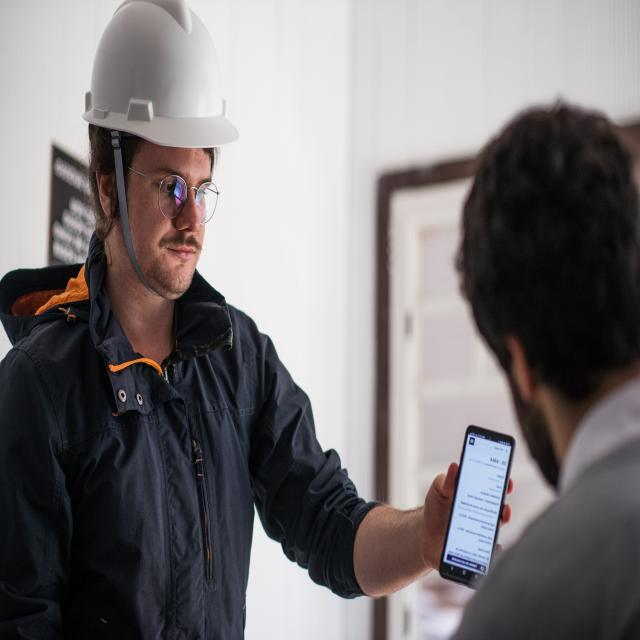capacete: (77, 0, 244, 153)
